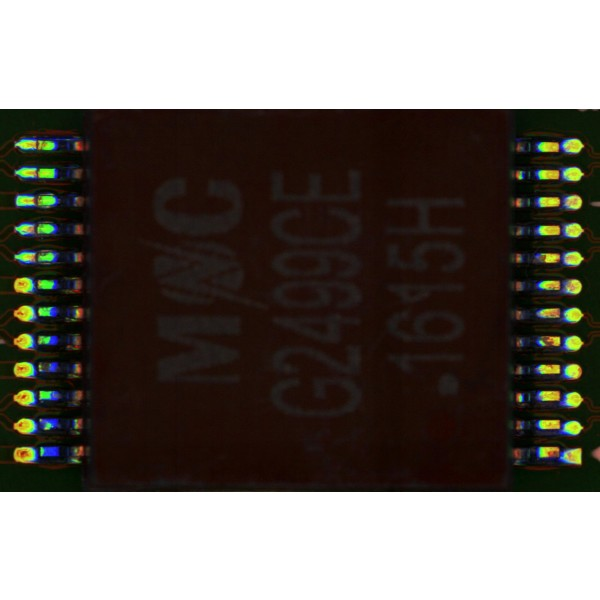Bad_podu: (25, 169, 47, 177), (23, 197, 46, 204), (27, 253, 45, 261), (27, 142, 47, 148), (27, 226, 46, 232)
